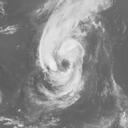cyclone: (38, 38, 86, 105)
